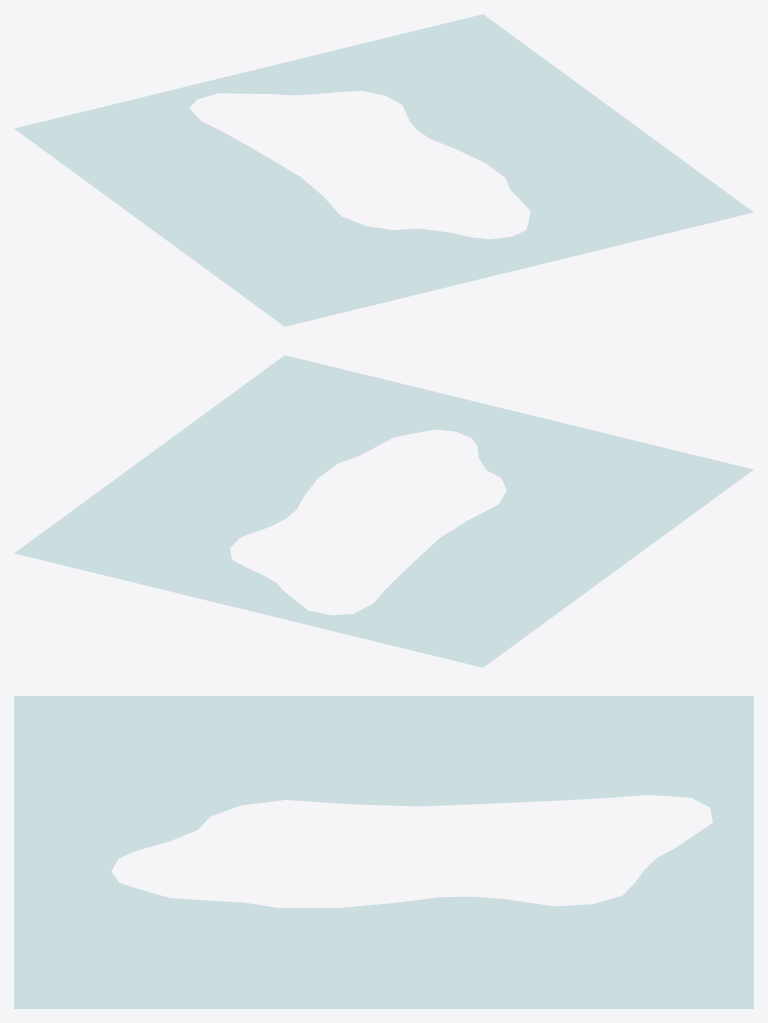
The model's file is sea_foam_001.fbx.
3 renders of one model, top to bottom at view 1: azimuth 30°, elevation 25°; view 2: azimuth 150°, elevation 25°; view 3: azimuth 270°, elevation 25°, orthographic. The views are drawn at different scales.
Parts seen in each view (by area): view 1: sea_foam_001; view 2: sea_foam_001; view 3: sea_foam_001.
Boxes of the visible parts, x1=… form: sea_foam_001: x1=14, y1=14, x2=753, y2=326; sea_foam_001: x1=14, y1=355, x2=753, y2=667; sea_foam_001: x1=14, y1=696, x2=753, y2=1008.
Bounding box in the file's own units: 1289 × 1289 × 8.71e-07.
